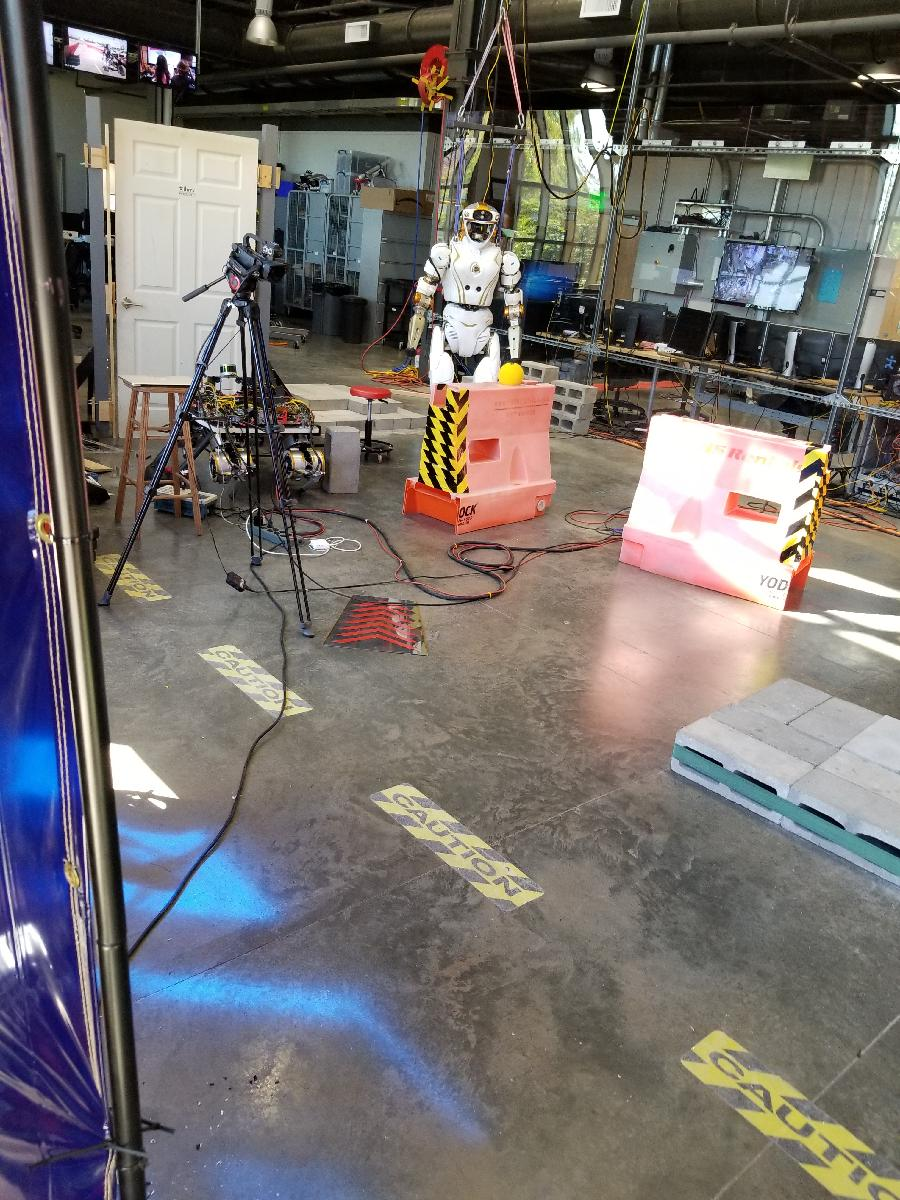door: (103, 112, 264, 456)
doorHandle: (120, 296, 142, 314)
